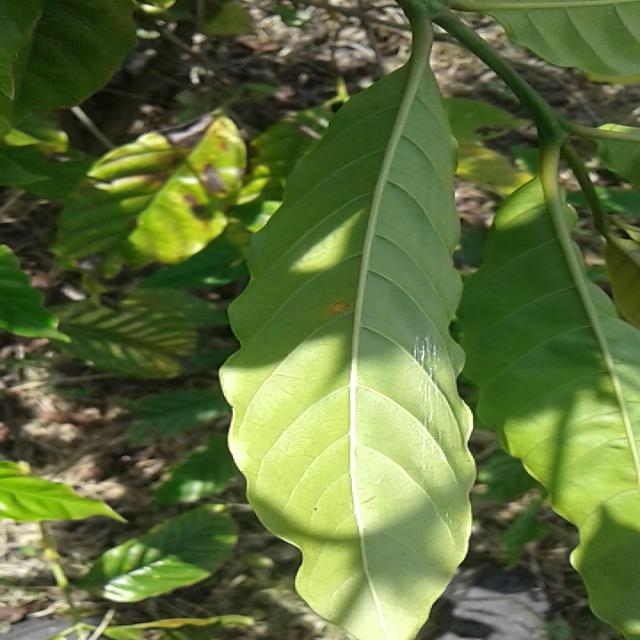Enfermedad-Roya: (218, 0, 478, 640)
